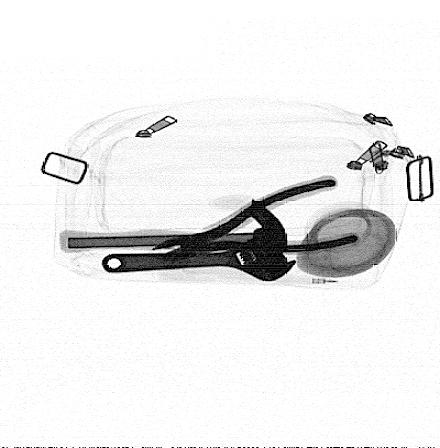Hammer: (57, 196, 288, 274)
Pliers: (147, 172, 359, 265)
Wrench: (99, 236, 298, 282)
